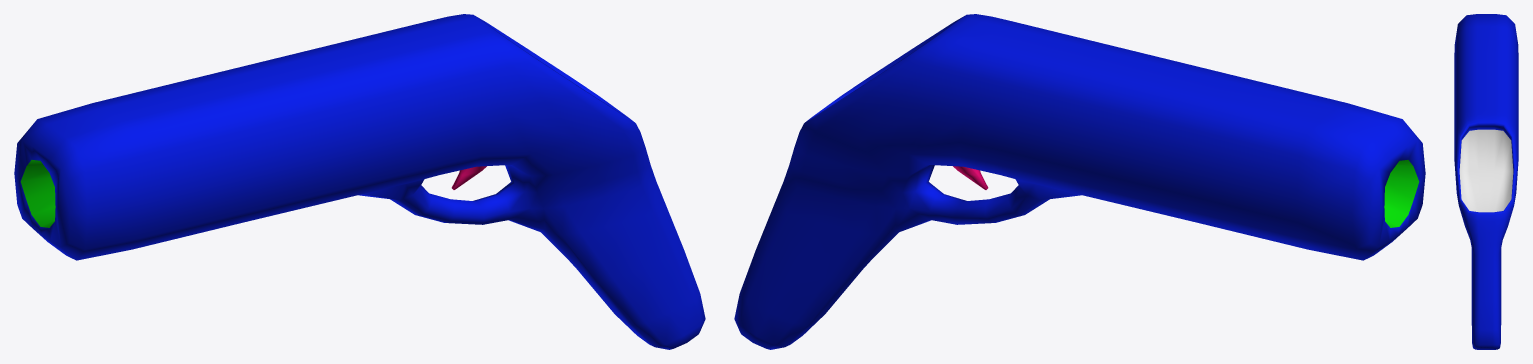
File: Gun2.fbx
3 views of the same model, side by side, from view 1: azimuth 30°, elevation 25°; view 2: azimuth 150°, elevation 25°; view 3: azimuth 270°, elevation 25° (orthographic). The views are drawn at different scales.
Parts seen in each view (by area): view 1: Cube; view 2: Cube; view 3: Cube.
Boxes of the visible parts, bbox=[...] form: Cube: bbox=[14, 14, 705, 349]; Cube: bbox=[734, 14, 1425, 349]; Cube: bbox=[1454, 14, 1518, 349].
Bounding box in the file's own units: 560 × 294 × 92.94.
